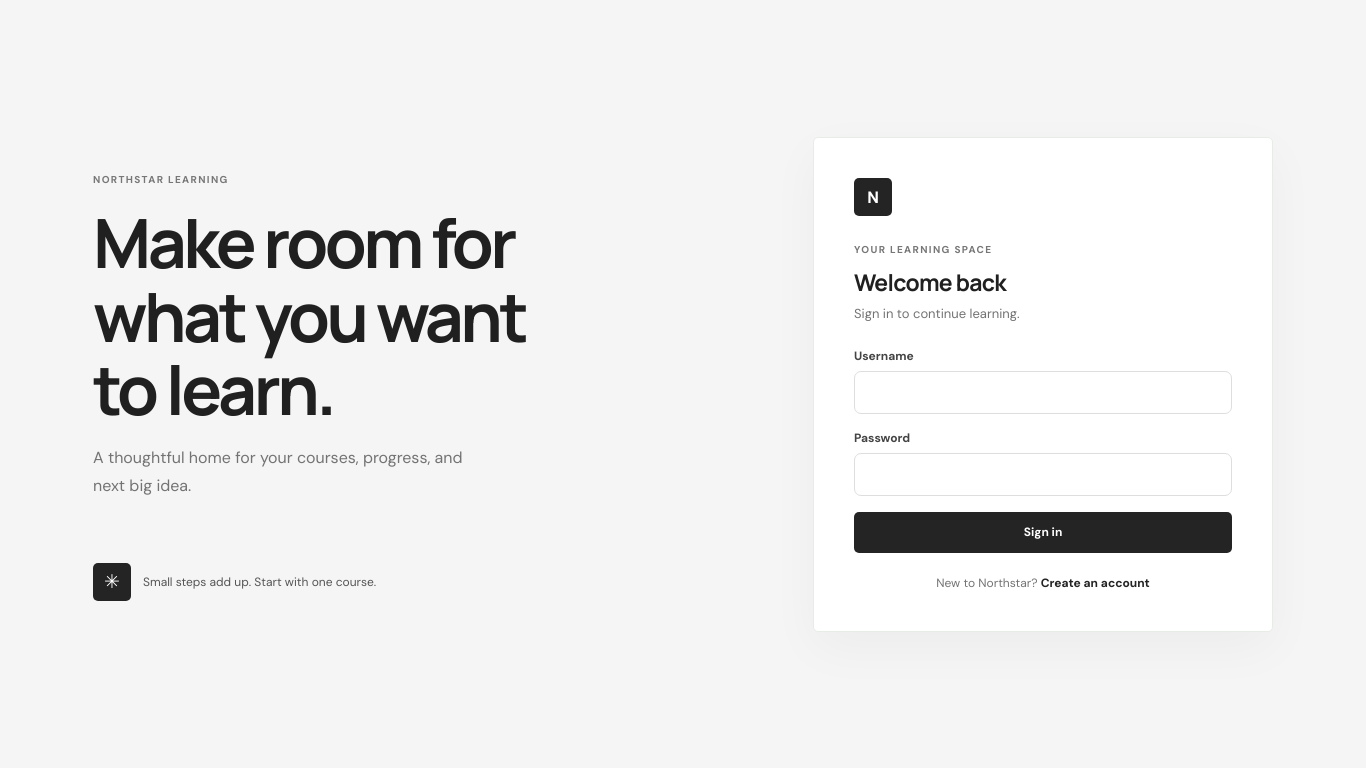
Learning Management System › shows the sign-in experience and lets a student explore courses
Expected: the heading "Welcome back" is shown, [854,266,1006,298]
Type "sam" into the field labelled "Username". click: (1043, 392)
box: [854,370,1232,414]
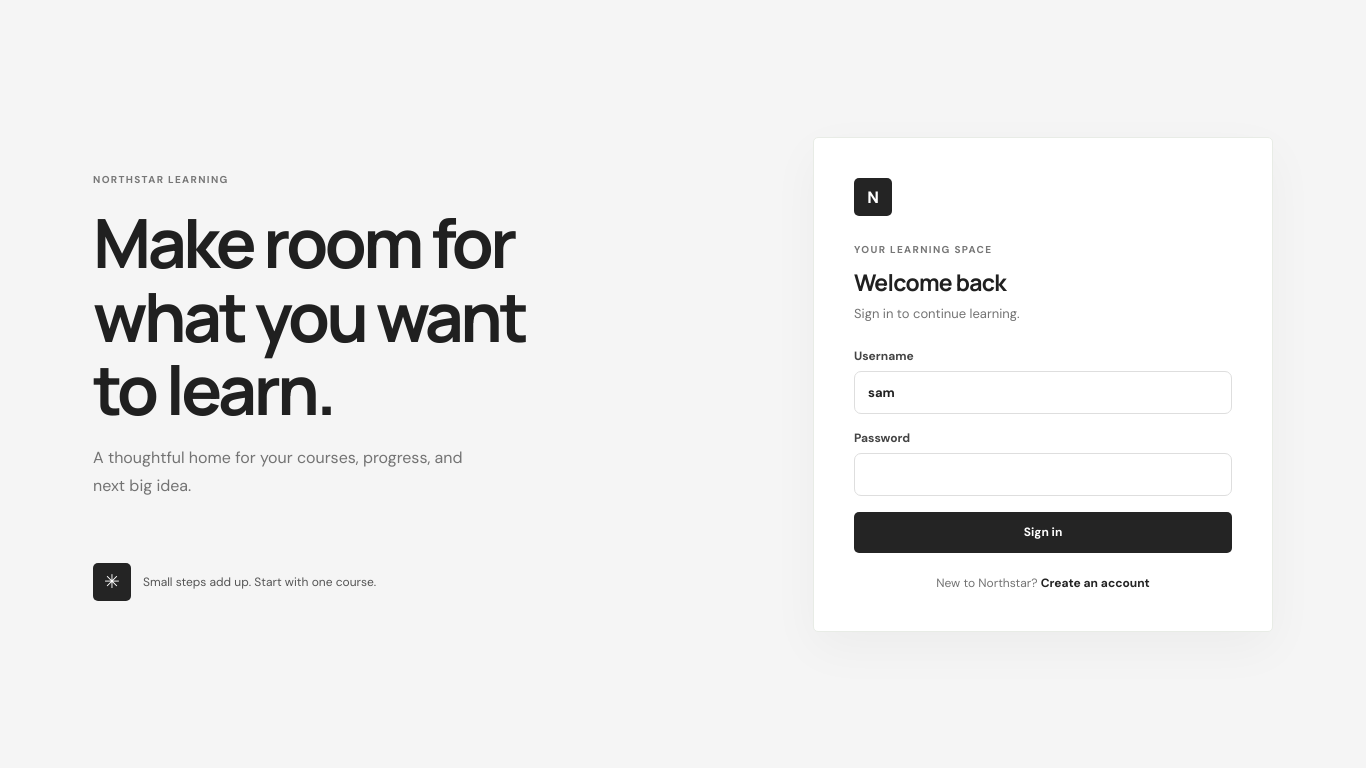
Type "a-secure-password" into the password field labelled "Password". click: (1043, 474)
box: [854,452,1232,496]
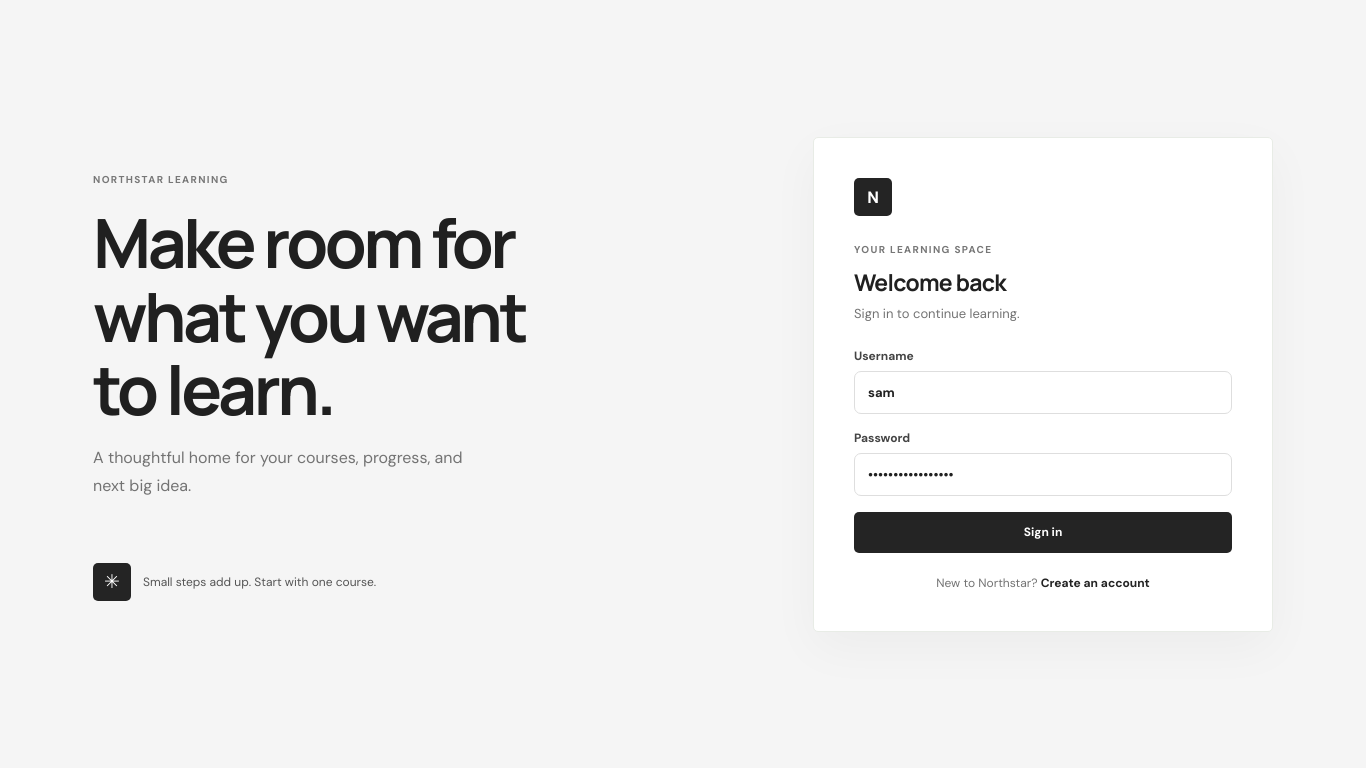
Click the button "Sign in". click: (1043, 532)
box: [854,512,1232,552]
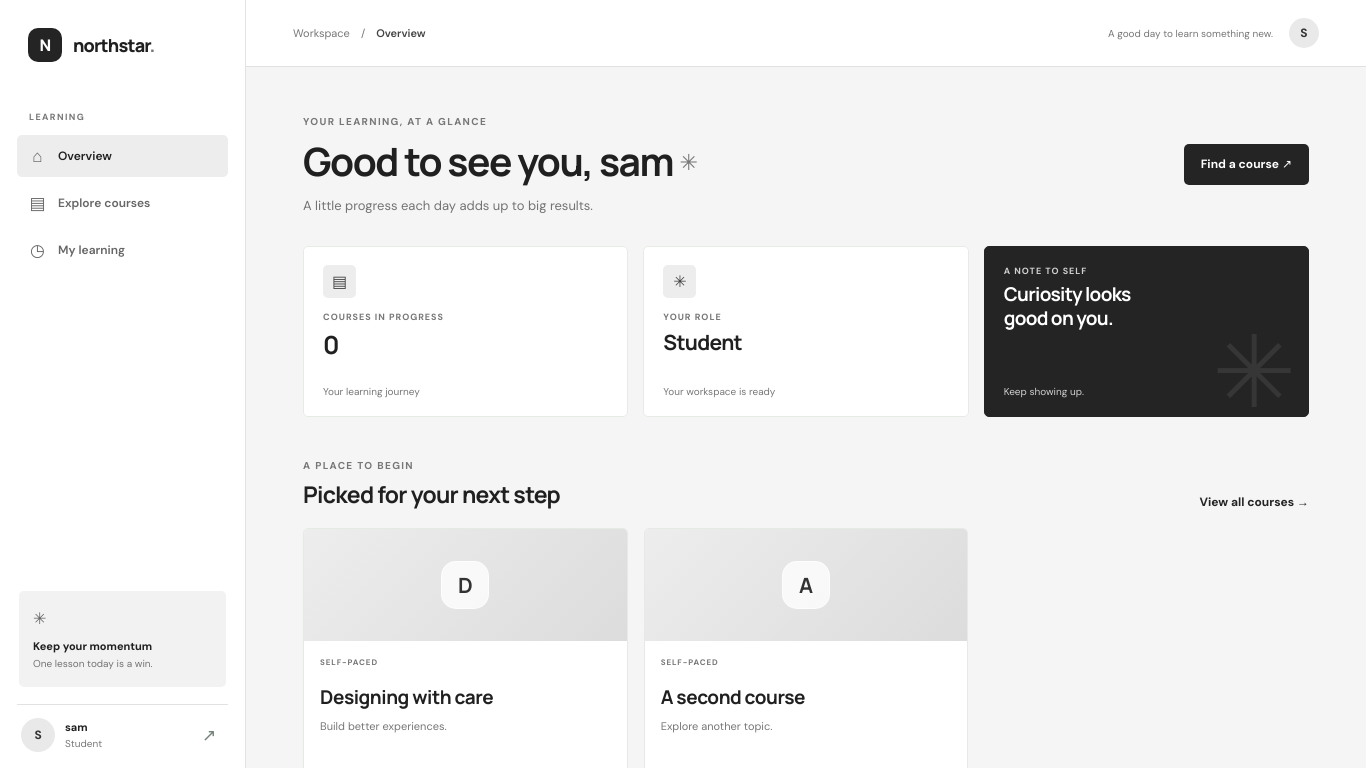
Now the heading "Good to see you, sam ✳" is shown, box [303,138,696,185]
Now the heading "Designing with care" is shown, box [320,684,493,710]
